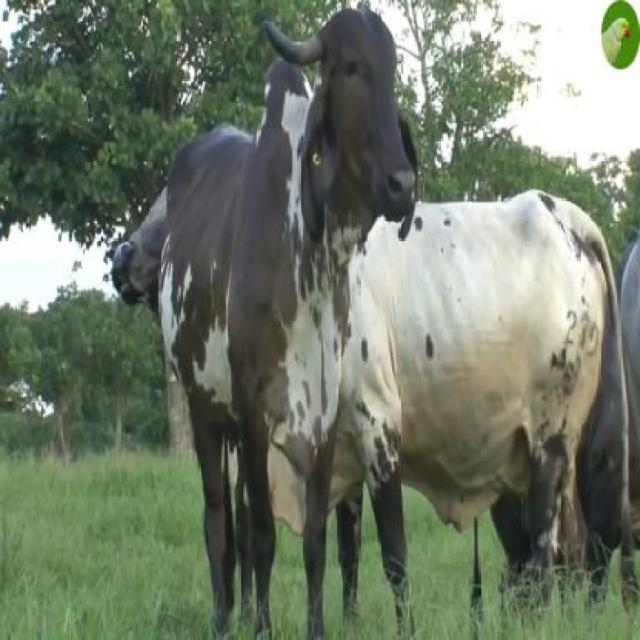Cow: (158, 2, 417, 636)
